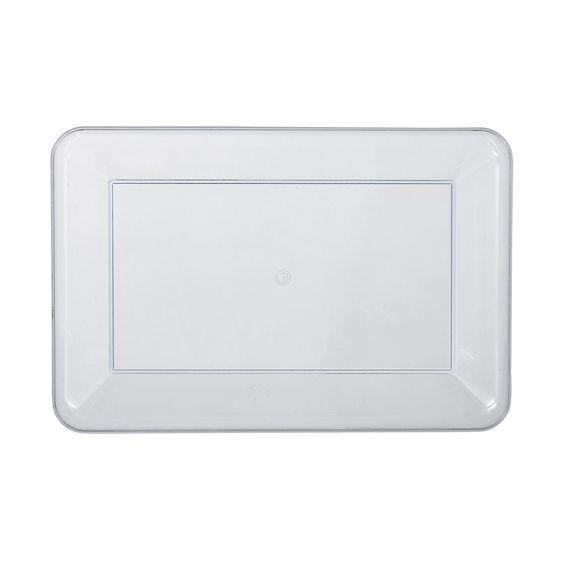PS: (51, 128, 514, 432)
